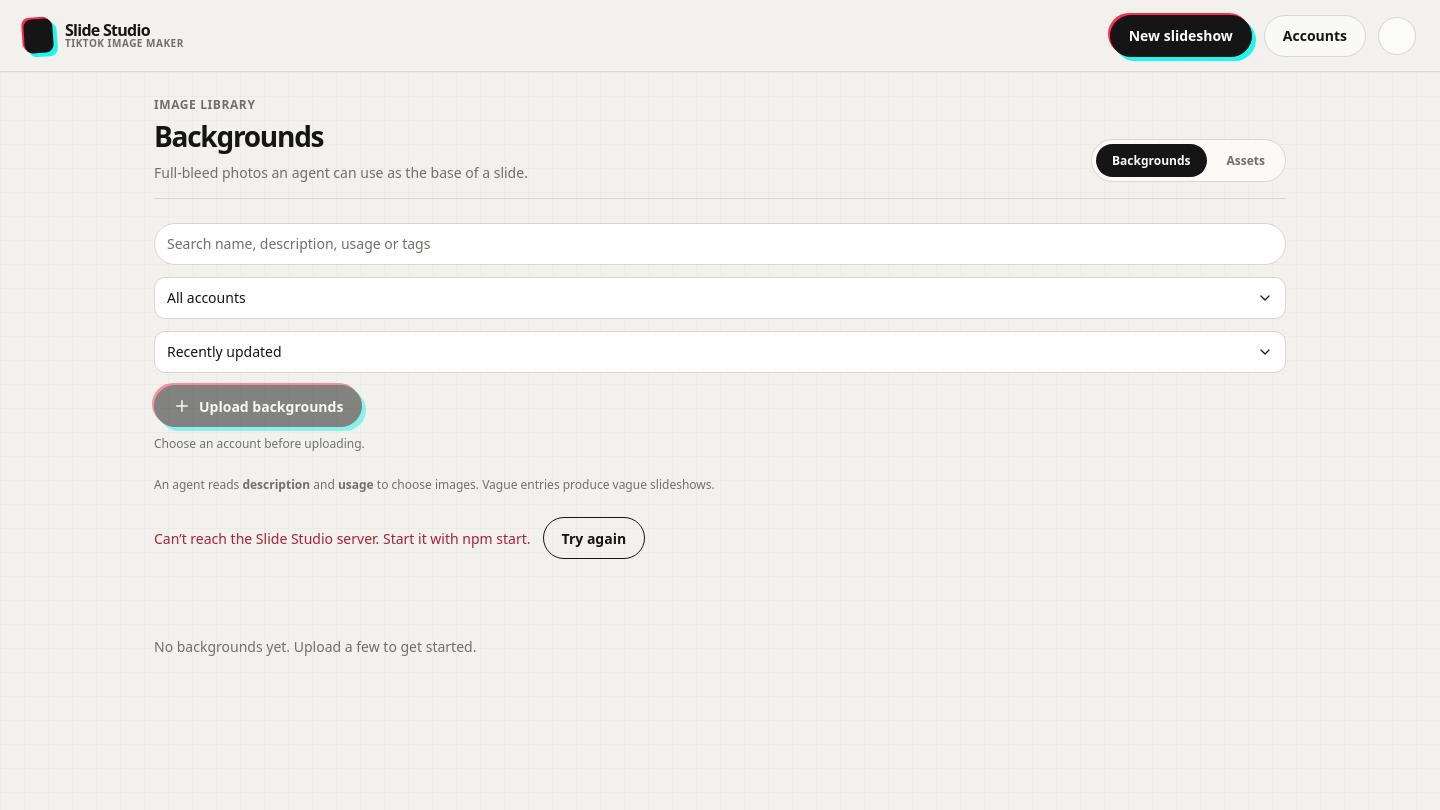
Test: offers a way back after the server could not be reached
Expected: the text "Can’t reach the Slide Studio server" is shown, left=154, top=528, right=530, bottom=548
Step 1. Click the button "Try again" → [594, 538], box left=542, top=517, right=645, bottom=559
(page scrolled)
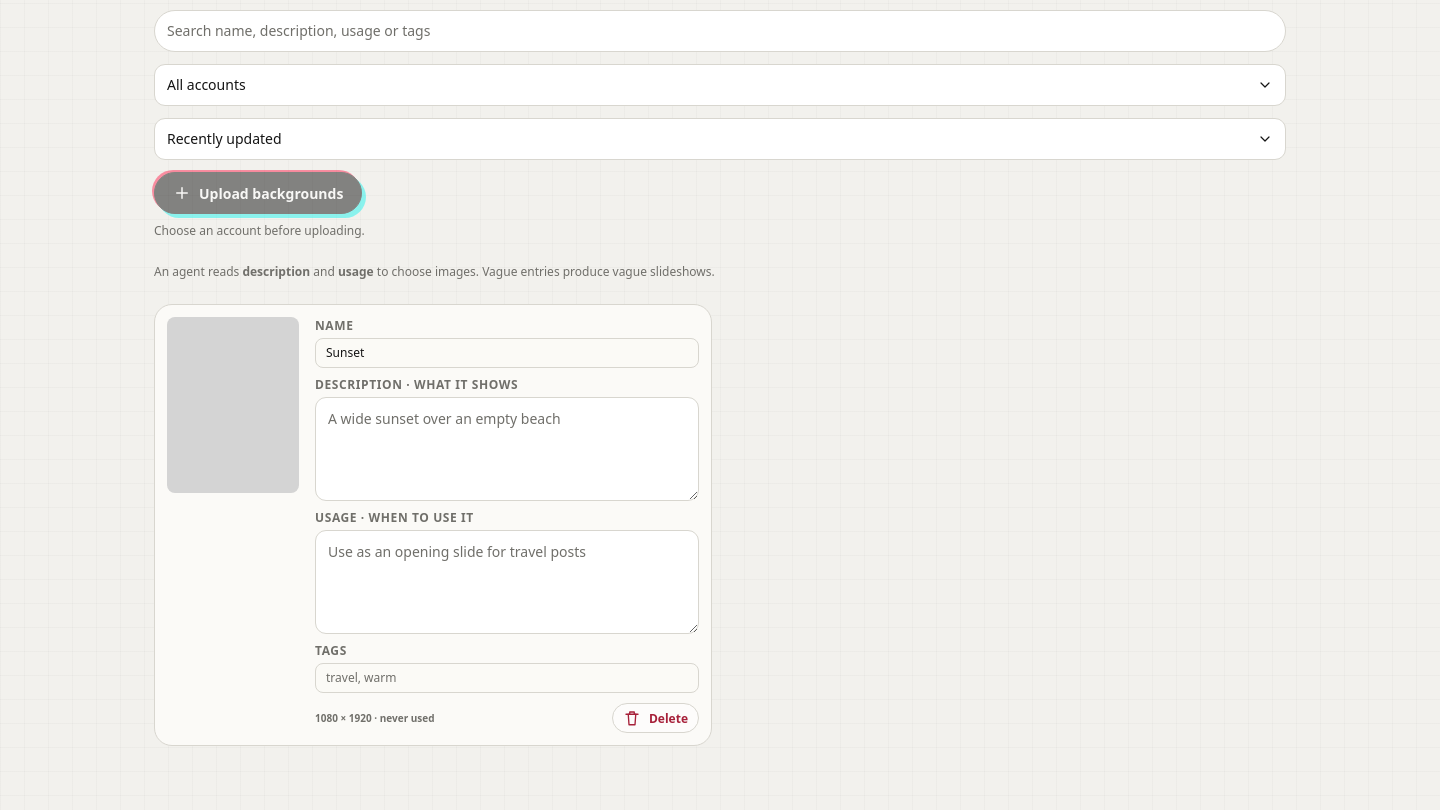
Expected: the button with aria-label "Delete Sunset" is shown, left=612, top=703, right=699, bottom=733
